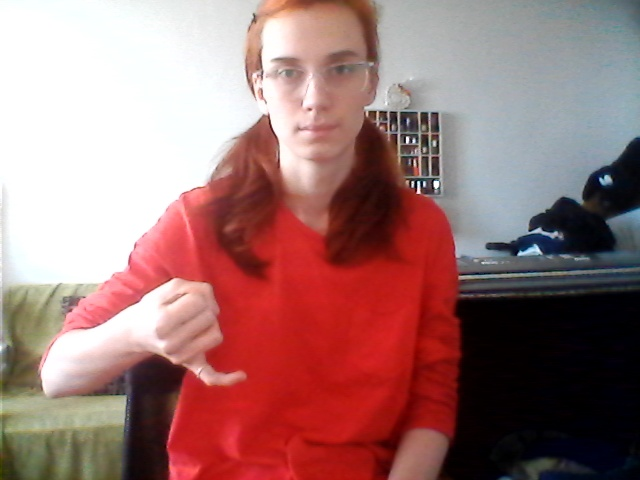j: (132, 266, 266, 395)
